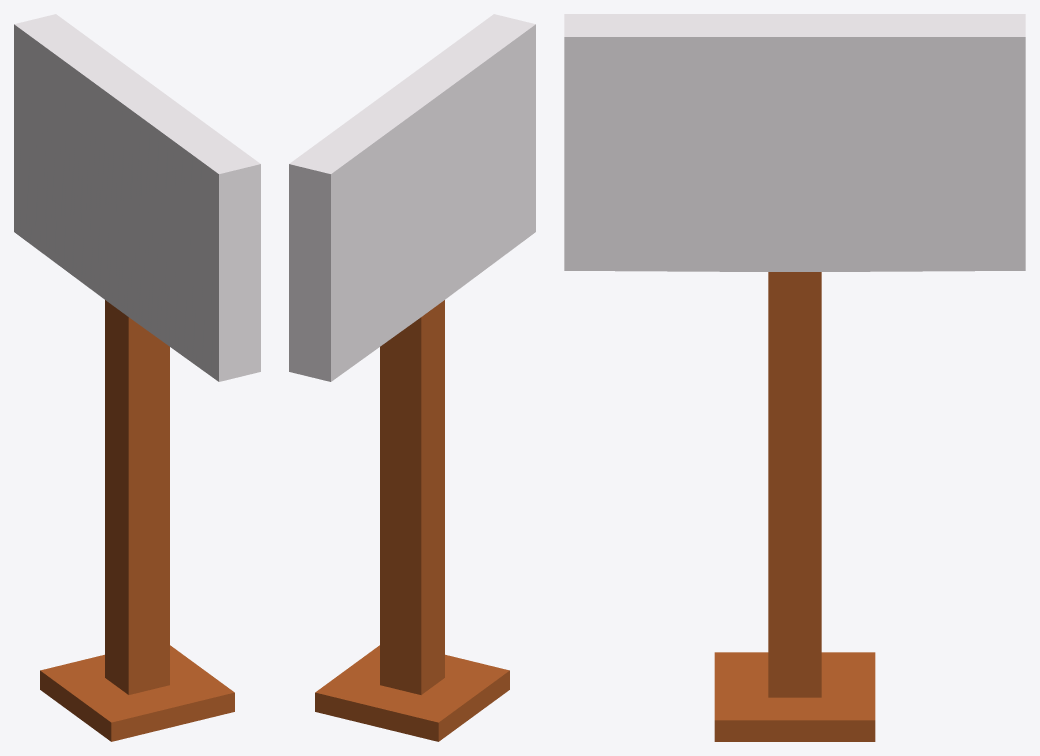
File: SIGN.glb
The picture shows the model from 3 angles, left to right: view 1: azimuth 30°, elevation 25°; view 2: azimuth 150°, elevation 25°; view 3: azimuth 270°, elevation 25°; orthographic projection. The views are drawn at different scales.
Visible parts, largest first — view 1: SIGN; view 2: SIGN; view 3: SIGN.
Part boxes in pixels (left/top/right/bottom): SIGN: left=14, top=14, right=260, bottom=741; SIGN: left=289, top=14, right=535, bottom=741; SIGN: left=564, top=14, right=1025, bottom=741.
Bounding box in the file's own units: 1.44 × 6.79 × 4.16.
